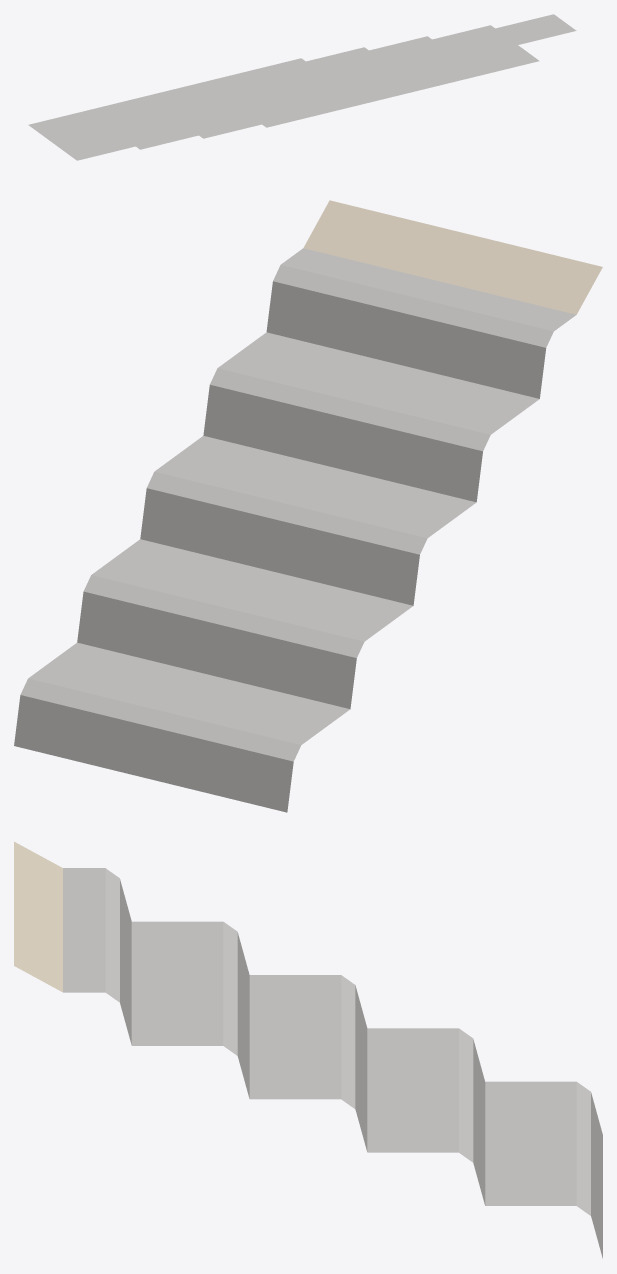
The model's file is Cliff_Terrain_Path_Steps_Center_Top.glb.
3 views of the same model, one above another, from view 1: azimuth 30°, elevation 25°; view 2: azimuth 150°, elevation 25°; view 3: azimuth 270°, elevation 25° (orthographic). The views are drawn at different scales.
Visible parts, largest first — view 1: Cliff_Terrain_Path_Steps_Center_Top; view 2: Cliff_Terrain_Path_Steps_Center_Top; view 3: Cliff_Terrain_Path_Steps_Center_Top.
Part boxes in pixels (x1,y1,x2,y2): Cliff_Terrain_Path_Steps_Center_Top: [28, 14, 576, 160]; Cliff_Terrain_Path_Steps_Center_Top: [14, 200, 602, 812]; Cliff_Terrain_Path_Steps_Center_Top: [14, 841, 602, 1258].
Size of the model in its own units: 1 by 1.1 by 2.
